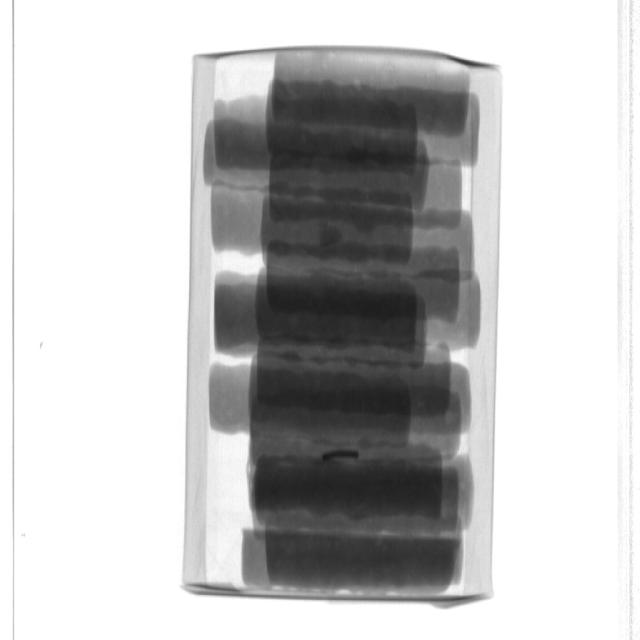ym: (325, 448, 362, 460)
